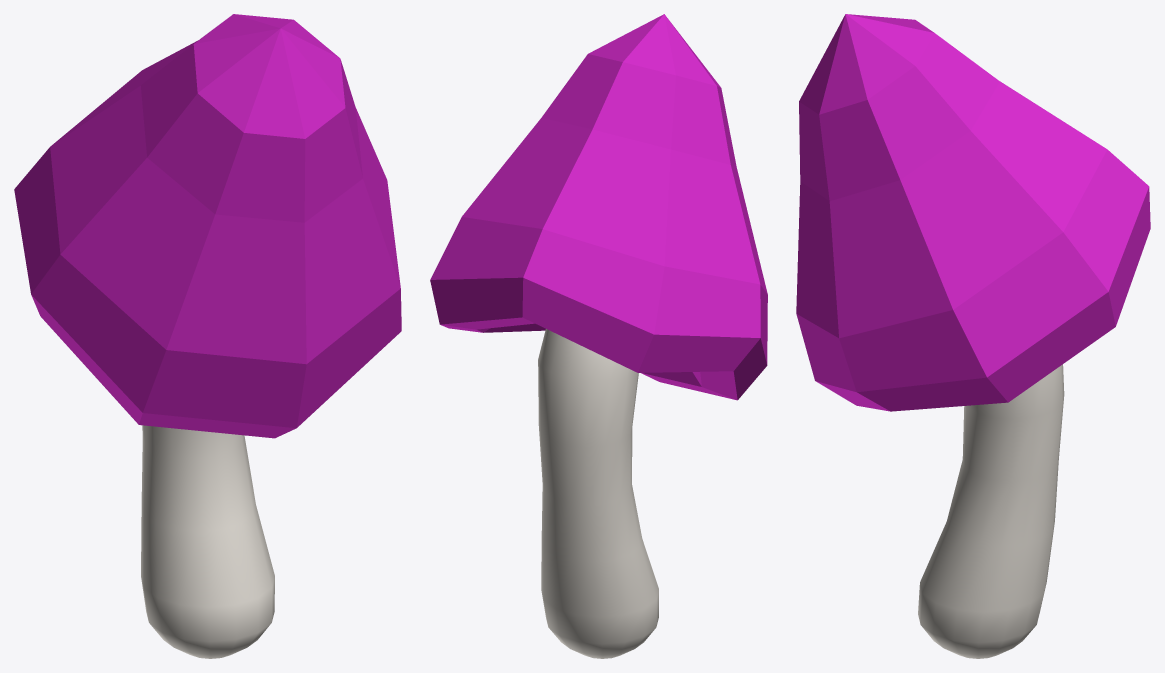
The model's file is OBJ_Big_Mushrooms_Tall.obj.
The picture shows the model from 3 angles, left to right: view 1: azimuth 30°, elevation 25°; view 2: azimuth 150°, elevation 25°; view 3: azimuth 270°, elevation 25°; orthographic projection. The views are drawn at different scales.
Visible parts, largest first — view 1: pSphere3; view 2: pSphere3; view 3: pSphere3.
Part boxes in pixels (<box>): pSphere3: <box>14,14,401,658</box>; pSphere3: <box>430,14,767,658</box>; pSphere3: <box>796,14,1150,658</box>.
Size of the model in its own units: 127 by 228 by 114.
